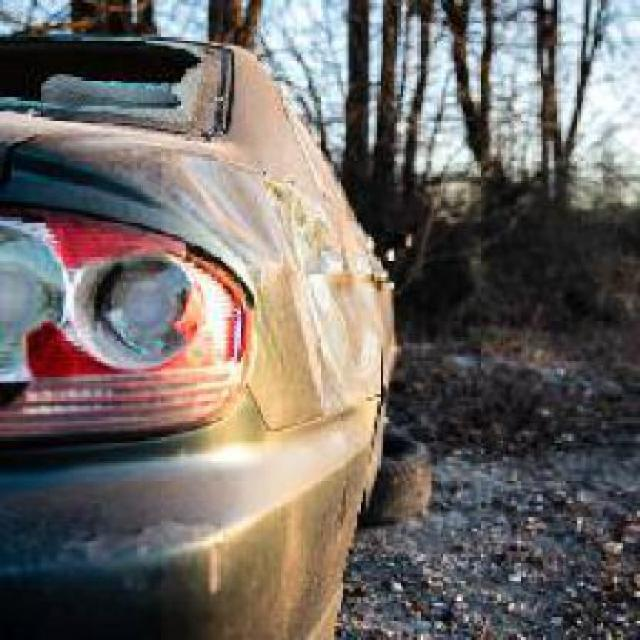damaged-rear-window: (0, 33, 248, 138)
damaged-tail-light: (5, 198, 248, 439)
